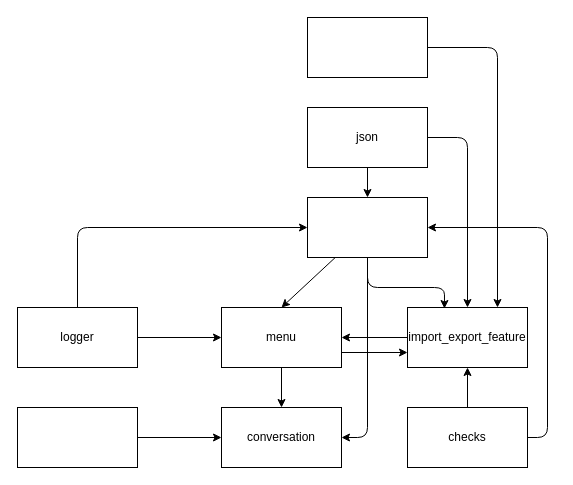
The diagram is 573 pixels wide and 485 high, and some of its shapes have lost their labels. The shapes that lost their labels are listed below. From the top down, each one's centre as x and y in pixels, then its label:
At (367,47): "csv".
At (367,227): "operations_contacts".
At (77,437): "config".
